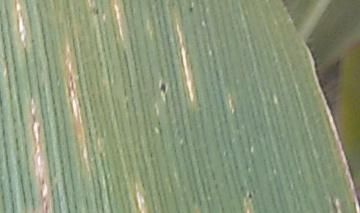tarspot: (158, 81, 167, 95), (93, 7, 100, 16), (247, 190, 253, 199), (187, 6, 193, 14), (148, 152, 154, 160), (156, 120, 162, 127), (29, 38, 35, 45)
